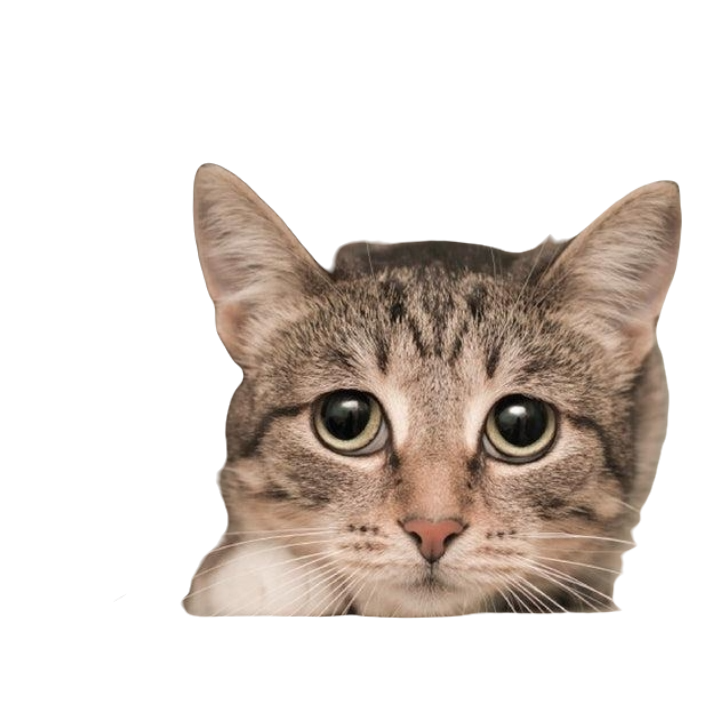Cat: (174, 157, 689, 620)
